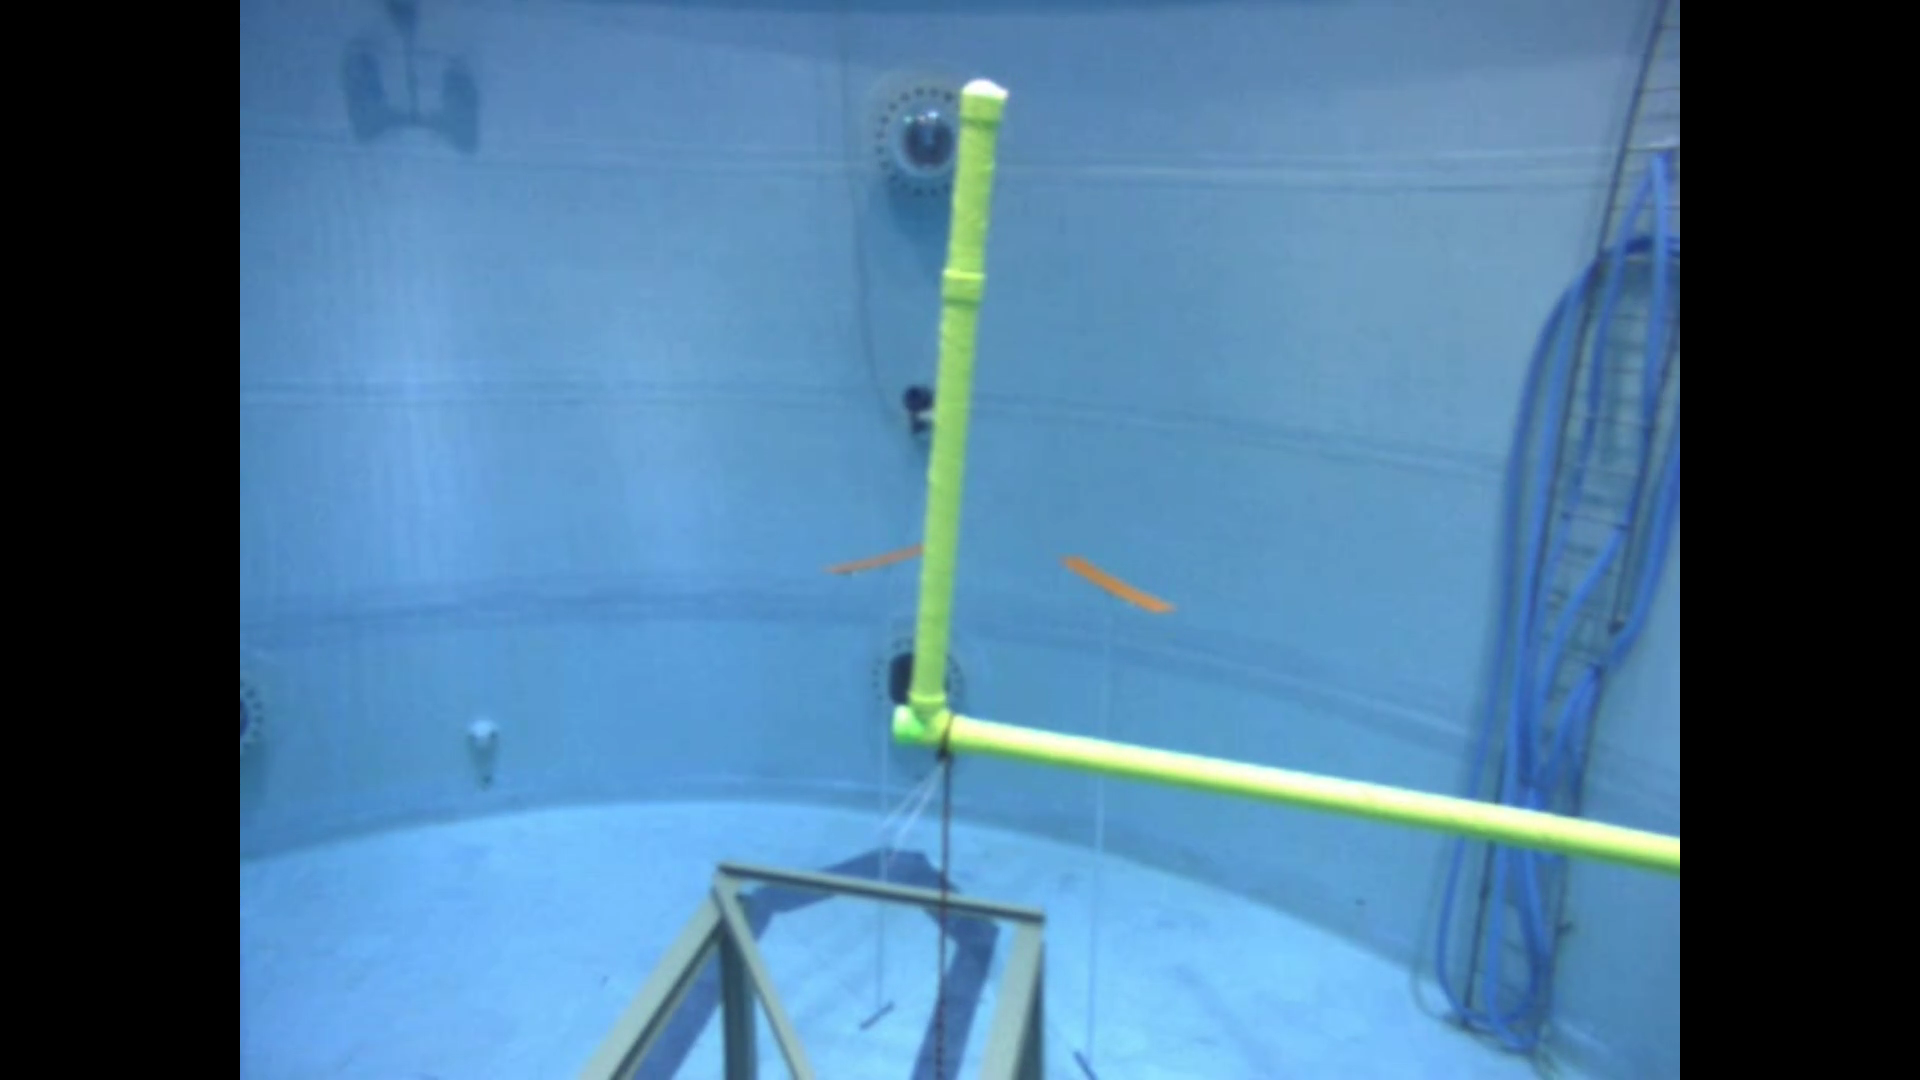gate: (887, 69, 1679, 876)
